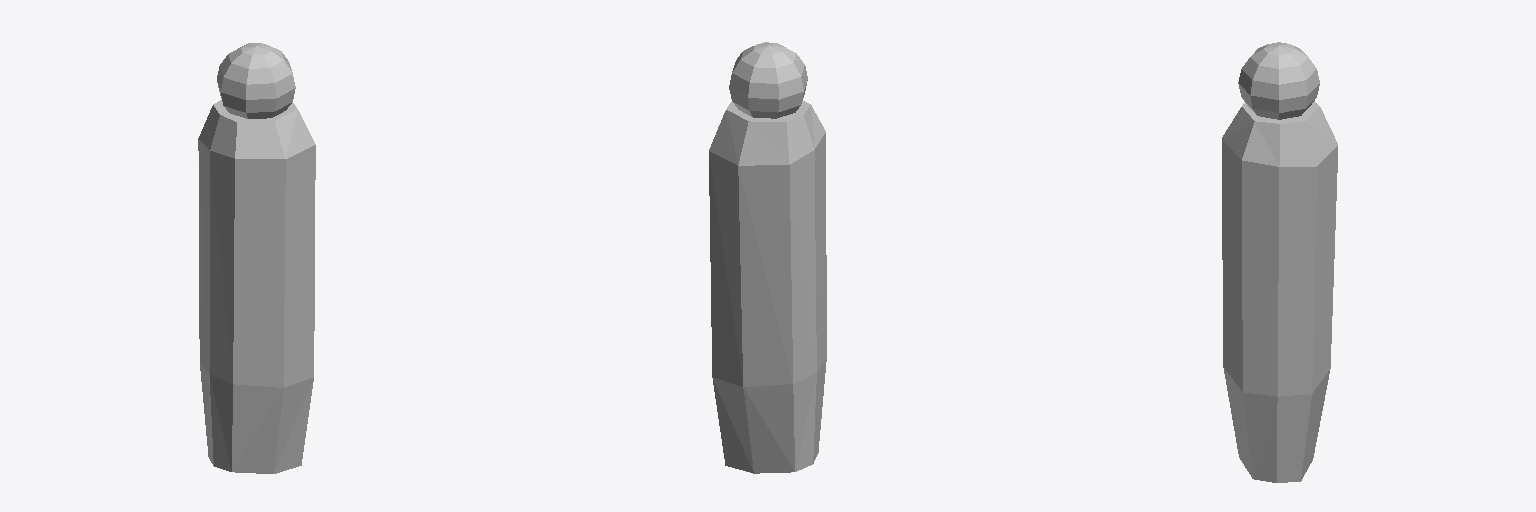
File: left_upper_leg.obj
3 views of the same model, side by side, from view 1: azimuth 30°, elevation 25°; view 2: azimuth 150°, elevation 25°; view 3: azimuth 270°, elevation 25° (orthographic).
Visible parts, largest first — view 1: Left_Upper_Leg.001_Cube.022; view 2: Left_Upper_Leg.001_Cube.022; view 3: Left_Upper_Leg.001_Cube.022.
Part boxes in pixels (bbox=[...]): Left_Upper_Leg.001_Cube.022: bbox=[198, 43, 315, 473]; Left_Upper_Leg.001_Cube.022: bbox=[709, 42, 826, 473]; Left_Upper_Leg.001_Cube.022: bbox=[1222, 42, 1337, 482].
Bounding box in the file's own units: 0.2522 × 1.06 × 0.2678.